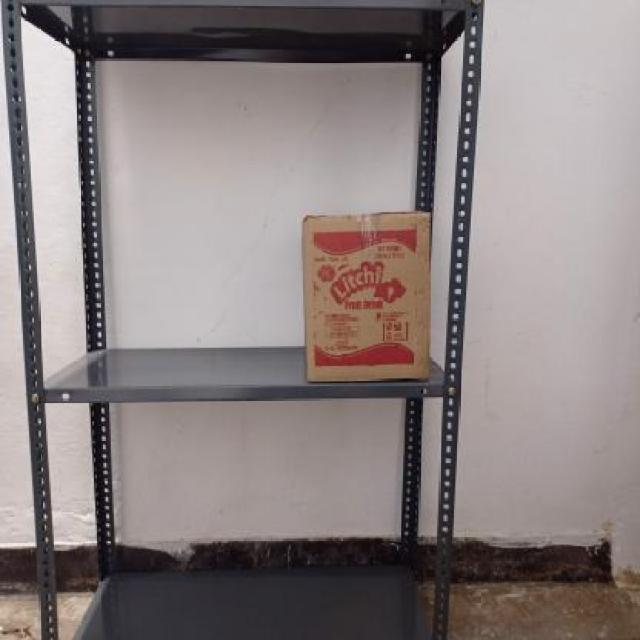box: (303, 215, 432, 382)
